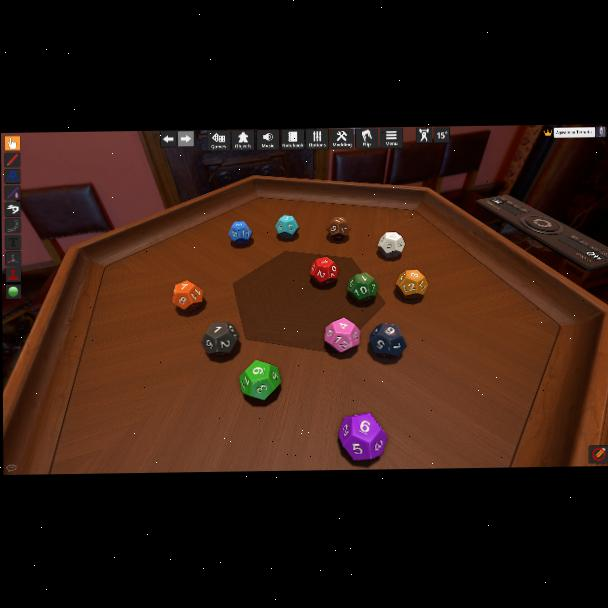d12: (338, 412, 386, 460), (238, 360, 279, 401), (369, 324, 406, 359), (324, 317, 359, 353), (201, 322, 238, 356), (173, 280, 204, 311), (396, 269, 428, 299), (347, 273, 378, 302), (377, 232, 405, 259), (308, 258, 334, 285), (229, 221, 253, 246), (327, 217, 349, 241), (278, 216, 300, 239)
